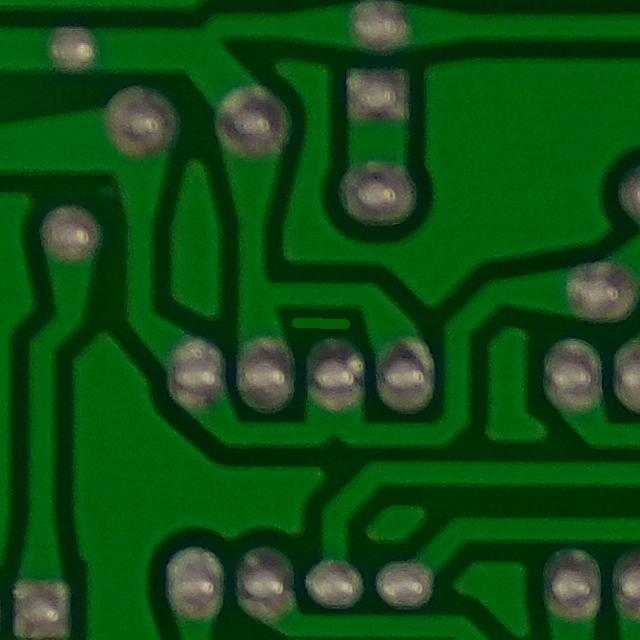spurious_copper: (275, 294, 366, 347)
